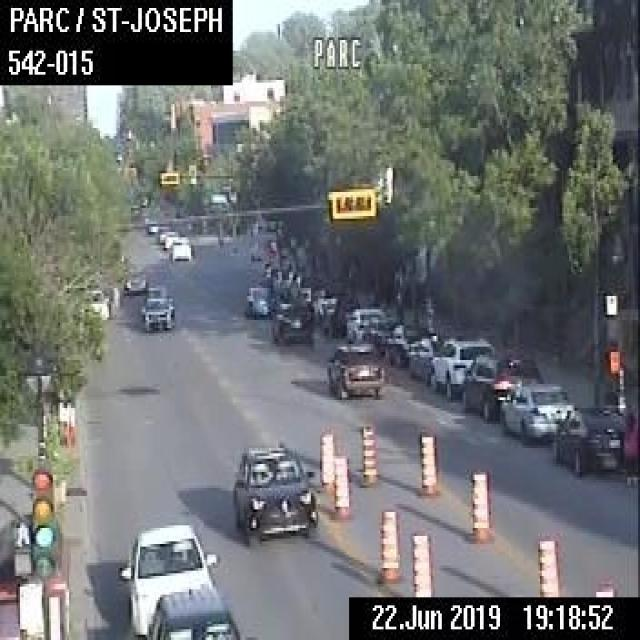construction: (376, 509, 400, 584), (409, 528, 431, 595), (535, 533, 558, 595), (468, 464, 486, 536), (416, 429, 434, 496), (317, 429, 335, 490), (360, 422, 376, 486), (332, 456, 347, 510), (592, 568, 614, 595)
pedestrian: (622, 410, 638, 490)
vehicle: (115, 520, 219, 638), (231, 443, 318, 541), (459, 353, 541, 424), (552, 406, 624, 474), (498, 382, 575, 444), (148, 588, 242, 637), (428, 336, 492, 398), (326, 341, 382, 399), (383, 320, 428, 366), (270, 300, 311, 344), (405, 330, 437, 384), (319, 294, 358, 335), (358, 315, 396, 353), (344, 306, 384, 342), (138, 294, 172, 331), (246, 280, 276, 315), (84, 287, 108, 321), (123, 267, 146, 293), (170, 234, 191, 259), (162, 230, 178, 248), (156, 224, 170, 242), (146, 220, 158, 232)
